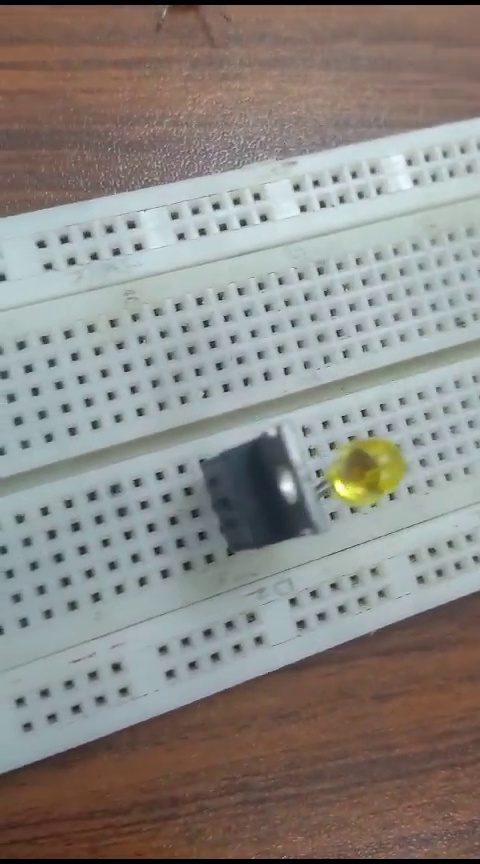LED: (332, 440, 411, 516)
voltage regulator: (192, 427, 322, 563)
